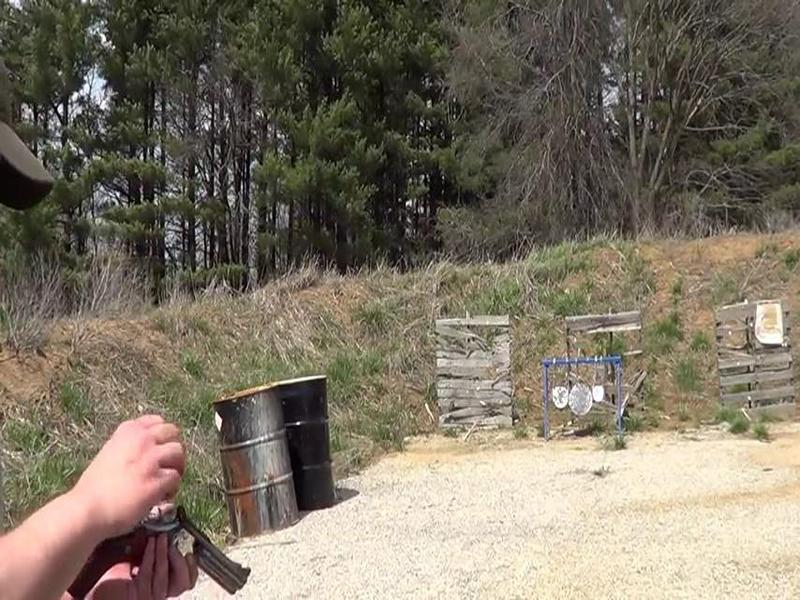Revolver: (53, 482, 244, 600)
